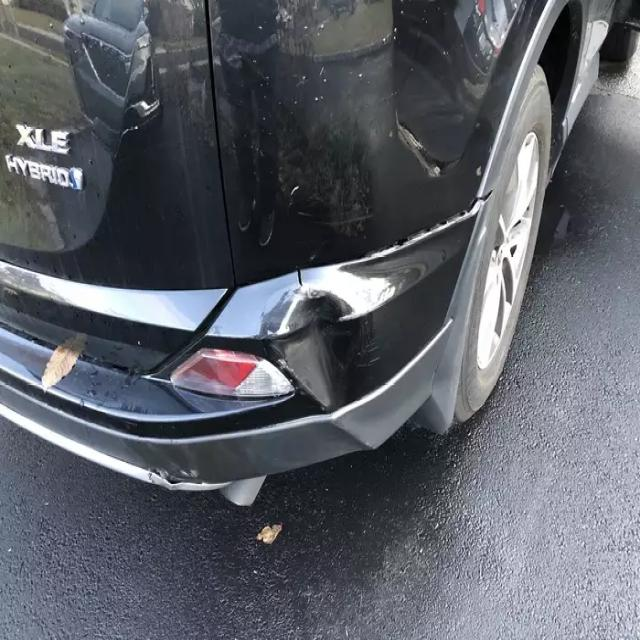dent: (264, 286, 354, 411)
misalignment: (350, 191, 492, 264)
scratch: (275, 355, 317, 399), (148, 466, 201, 488), (353, 338, 381, 370)
